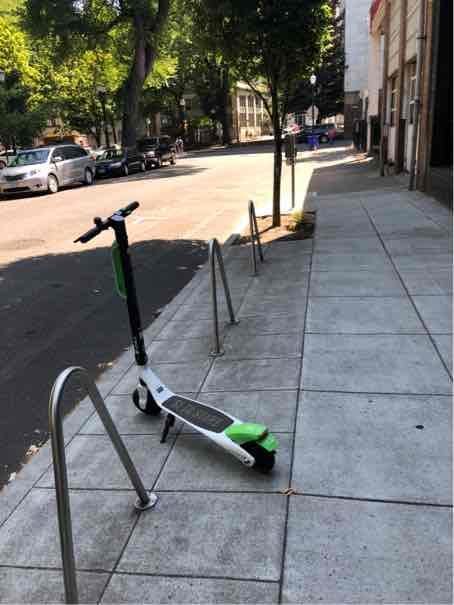scooter: (68, 195, 288, 480)
